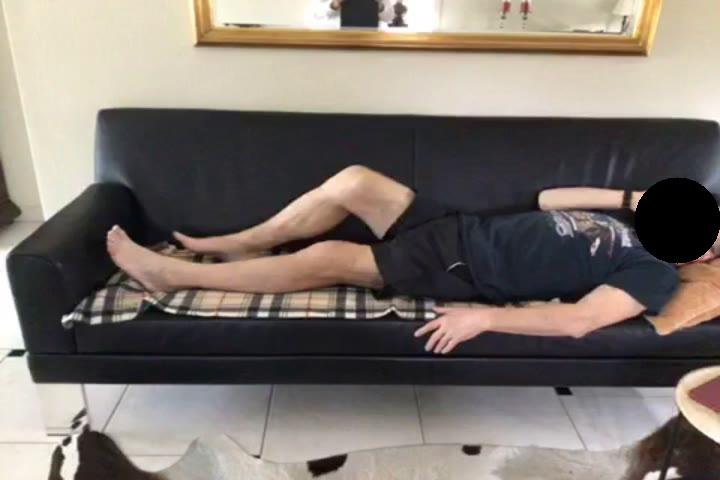lower_body: (107, 163, 487, 304)
